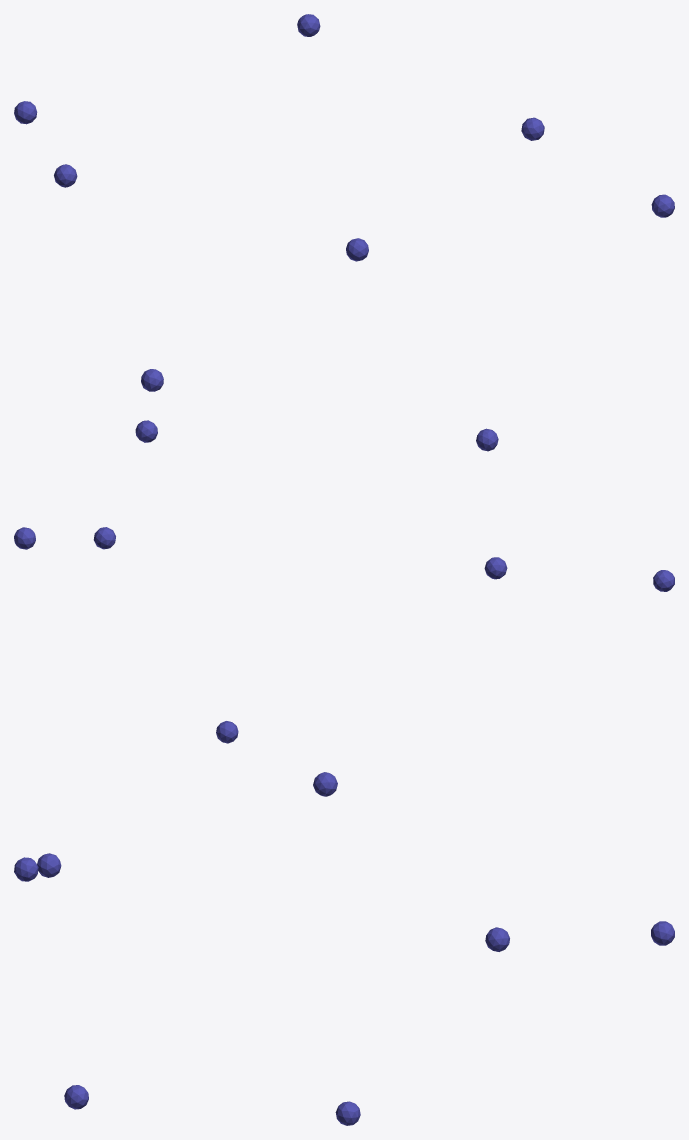
File: blbrrs2.fbx
The picture shows the model from 3 angles, top to bottom: view 1: azimuth 30°, elevation 25°; view 2: azimuth 150°, elevation 25°; view 3: azimuth 270°, elevation 25°; orthographic projection. The views are drawn at different scales.
Parts seen in each view (by area): view 1: Mball.002; view 2: Mball.002; view 3: Mball.002.
Boxes of the visible parts, x1=… form: Mball.002: x1=14, y1=14, x2=674, y2=391; Mball.002: x1=14, y1=420, x2=674, y2=743; Mball.002: x1=14, y1=772, x2=674, y2=1125.
Bounding box in the file's own units: 40.01 × 9.16 × 39.77.
